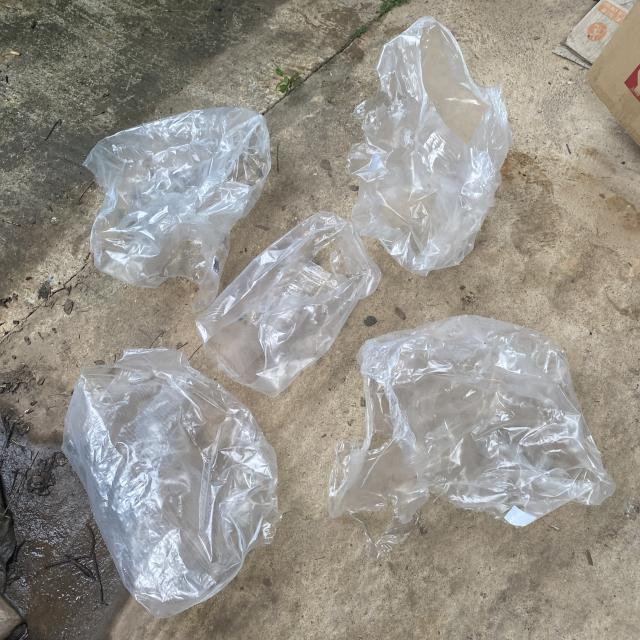Single-layer Plastic: (329, 315, 615, 558), (62, 348, 280, 618), (348, 16, 511, 275), (84, 108, 271, 312), (196, 211, 381, 398)
